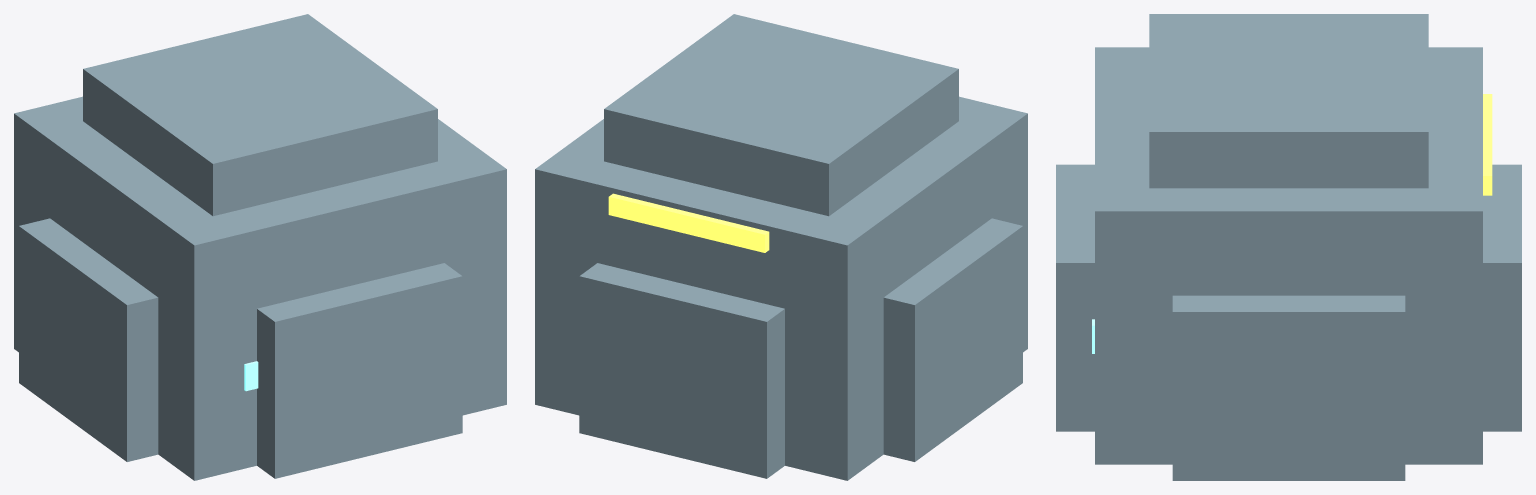
File: agent_hub_lod1-BlYXYxOL.glb
3 renders of one model, left to right at view 1: azimuth 30°, elevation 25°; view 2: azimuth 150°, elevation 25°; view 3: azimuth 270°, elevation 25°, orthographic. The views are drawn at different scales.
Parts seen in each view (by area): view 1: body; view 2: body, sign; view 3: body, sign.
Part boxes in pixels (x1,y1,x2,y2): body: [14, 14, 506, 480]; body: [535, 14, 1027, 480]; sign: [608, 193, 769, 252]; body: [1056, 14, 1521, 480]; sign: [1483, 94, 1492, 195].
Bounding box in the file's own units: 0.6 × 0.44 × 0.6.
